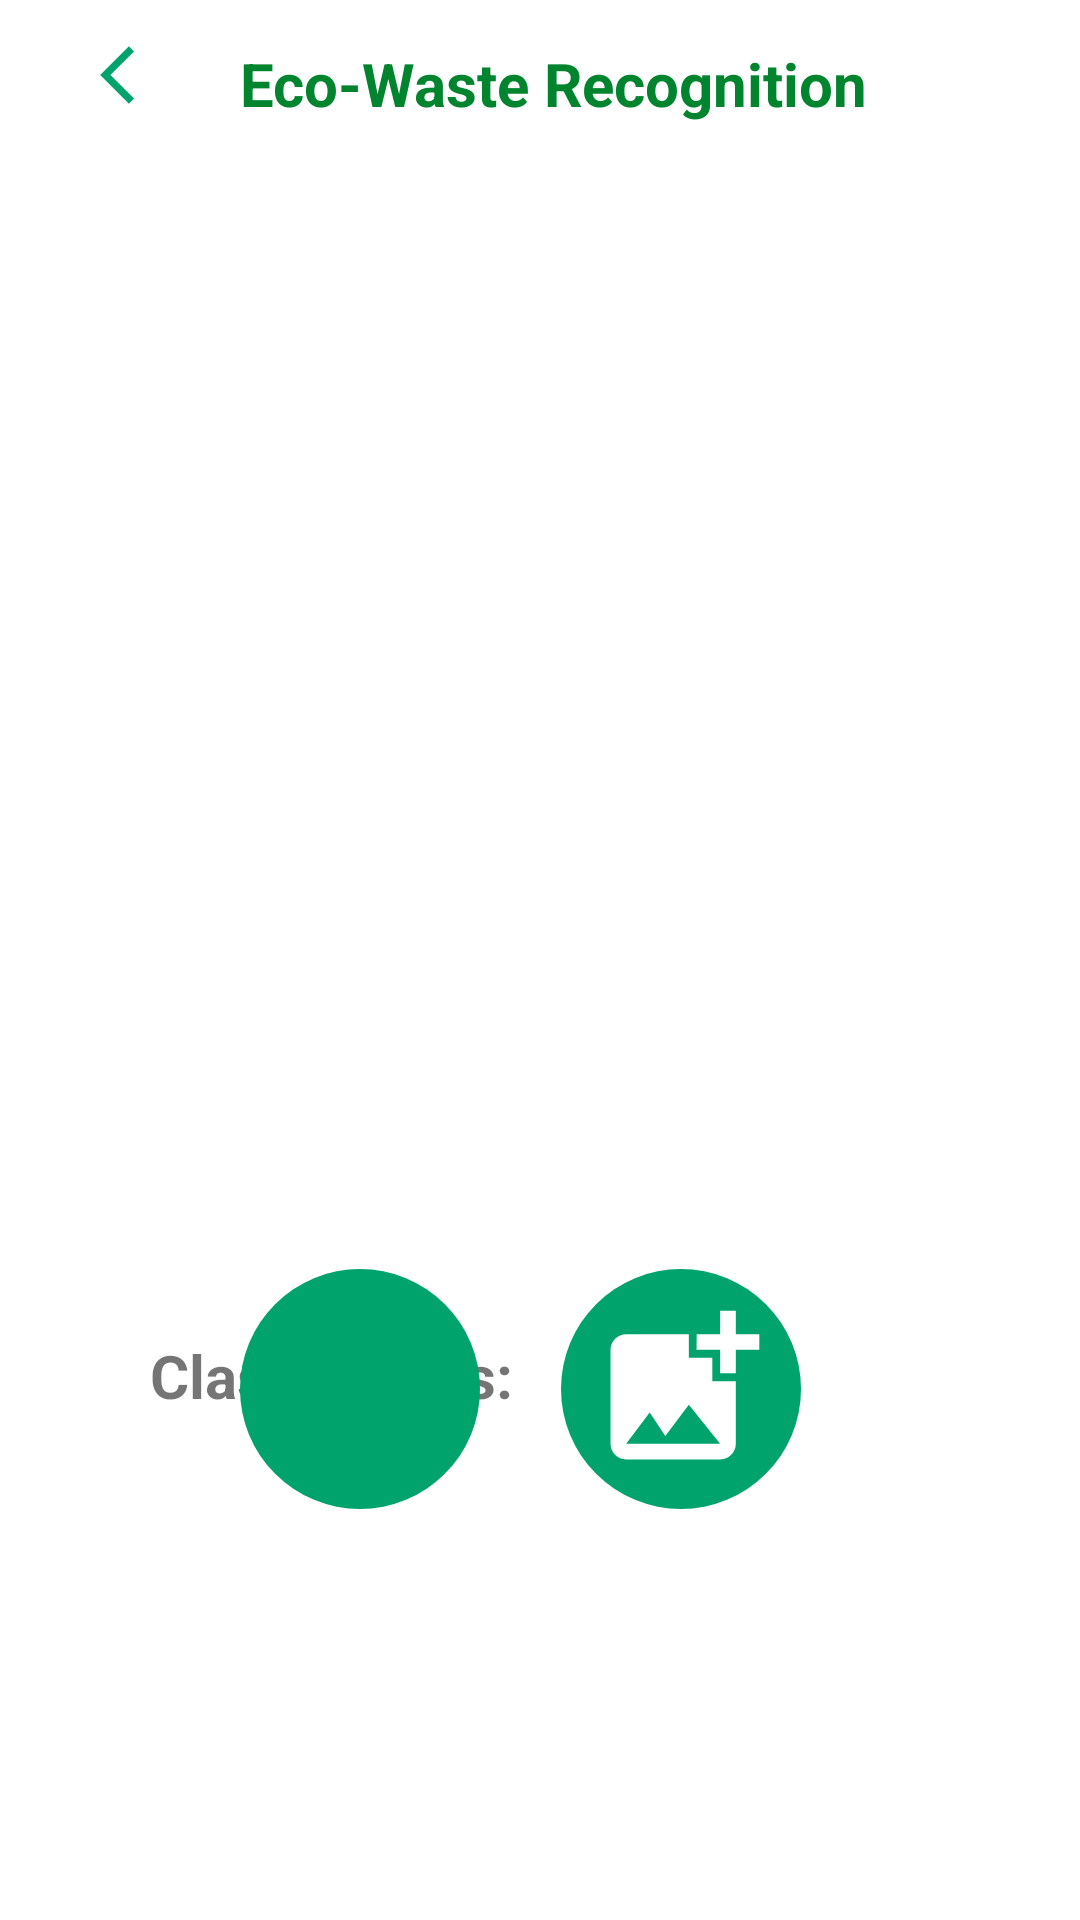

Icons on this 1080w x 1920h Android screen, each with its box as bbox(x1, y1, x2, y2):
Open gallery: bbox(561, 1269, 801, 1509)
